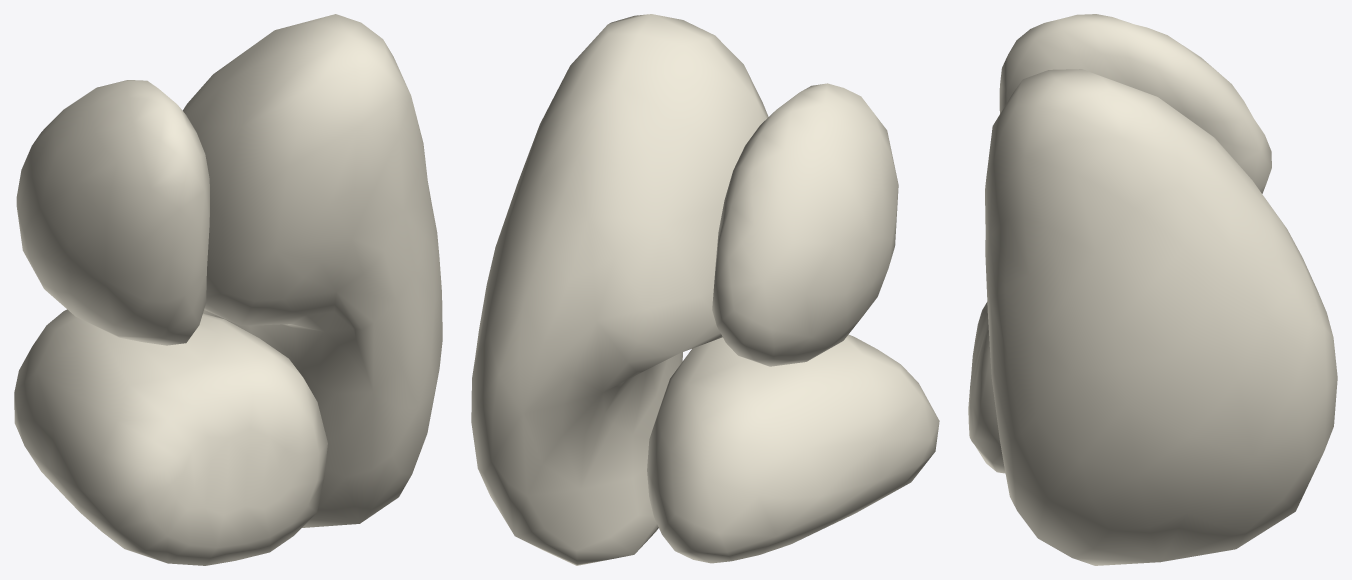
3 views of the same model, side by side, from view 1: azimuth 30°, elevation 25°; view 2: azimuth 150°, elevation 25°; view 3: azimuth 270°, elevation 25° (orthographic). The views are drawn at different scales.
Visible parts, largest first — view 1: ZA_79b142c5db3cb0e7; view 2: ZA_79b142c5db3cb0e7; view 3: ZA_79b142c5db3cb0e7.
Boxes of the visible parts, x1,y1,x2,y2 form: ZA_79b142c5db3cb0e7: (14,14,442,565); ZA_79b142c5db3cb0e7: (471,14,939,565); ZA_79b142c5db3cb0e7: (968,14,1337,565).
Size of the model in its own units: 0.00956 by 0.0123 by 0.00843.
